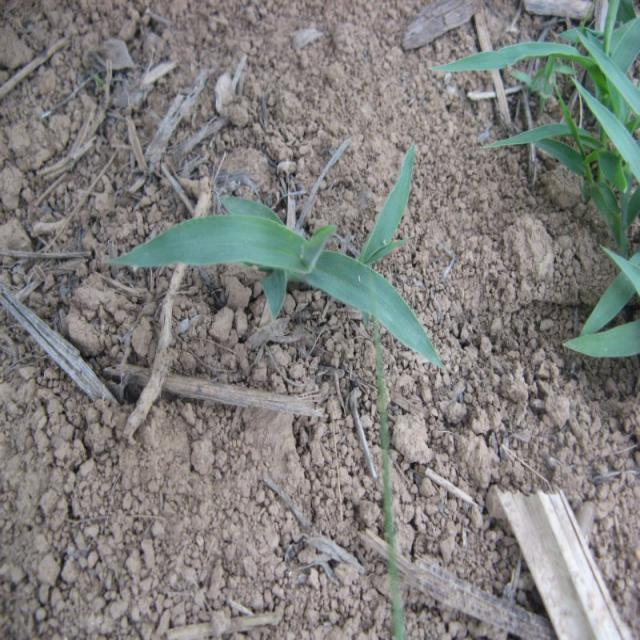bg: (113, 146, 439, 366)
